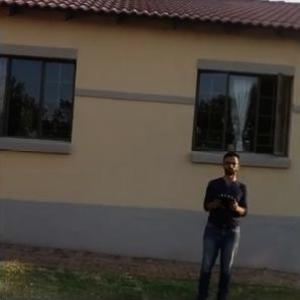follow: (190, 145, 252, 299)
